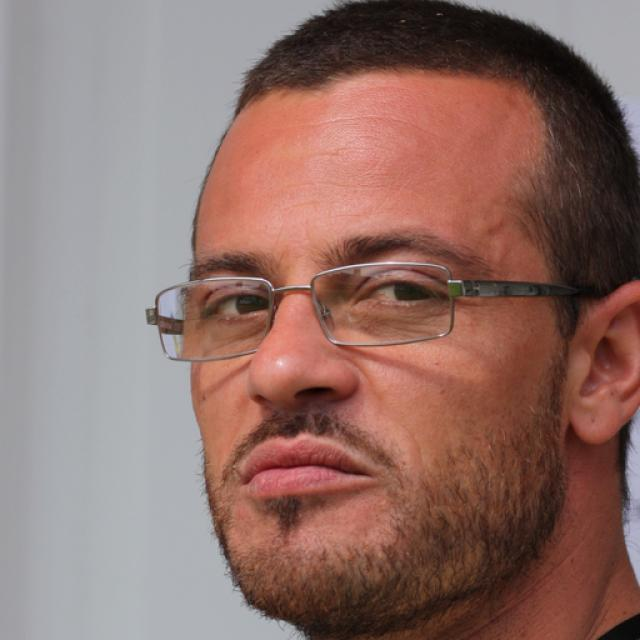neutral: (178, 68, 574, 626)
